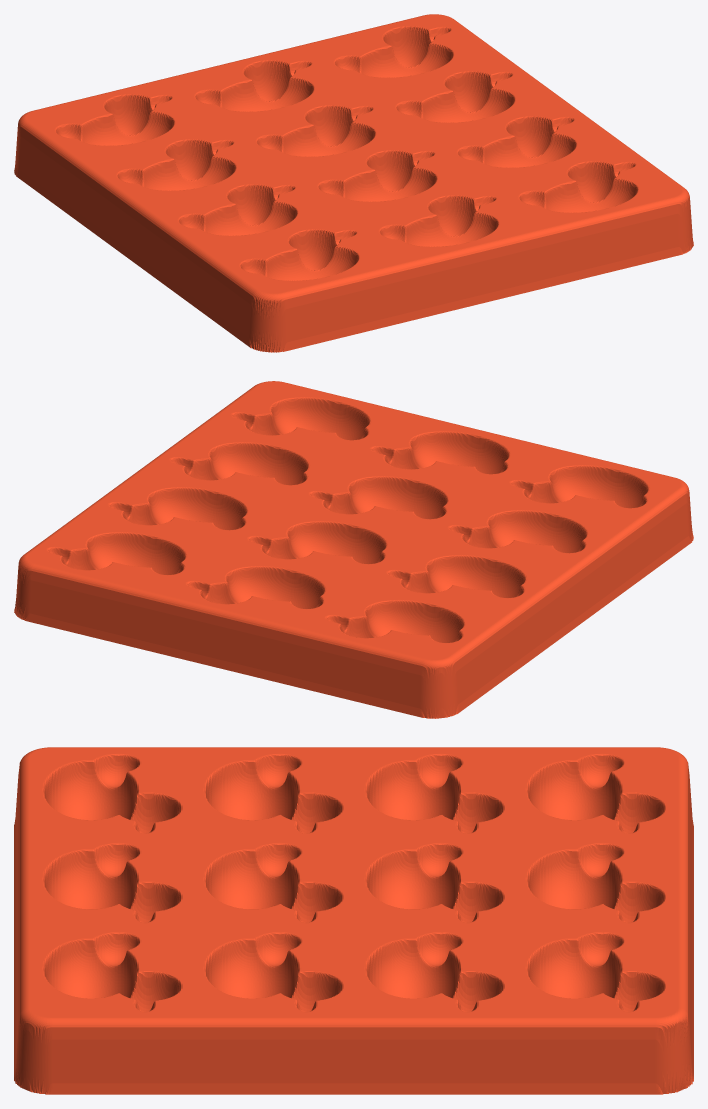
The model's file is mold.glb.
3 renders of one model, top to bottom at view 1: azimuth 30°, elevation 25°; view 2: azimuth 150°, elevation 25°; view 3: azimuth 270°, elevation 25°, orthographic. The views are drawn at different scales.
Visible parts, largest first — view 1: geometry_0; view 2: geometry_0; view 3: geometry_0.
Boxes of the visible parts, box(x1,y1,x2,y2) form: geometry_0: box(14, 14, 693, 352); geometry_0: box(14, 381, 693, 718); geometry_0: box(14, 747, 693, 1094).
Bounding box in the file's own units: 0.1587 × 0.0185 × 0.1615.
